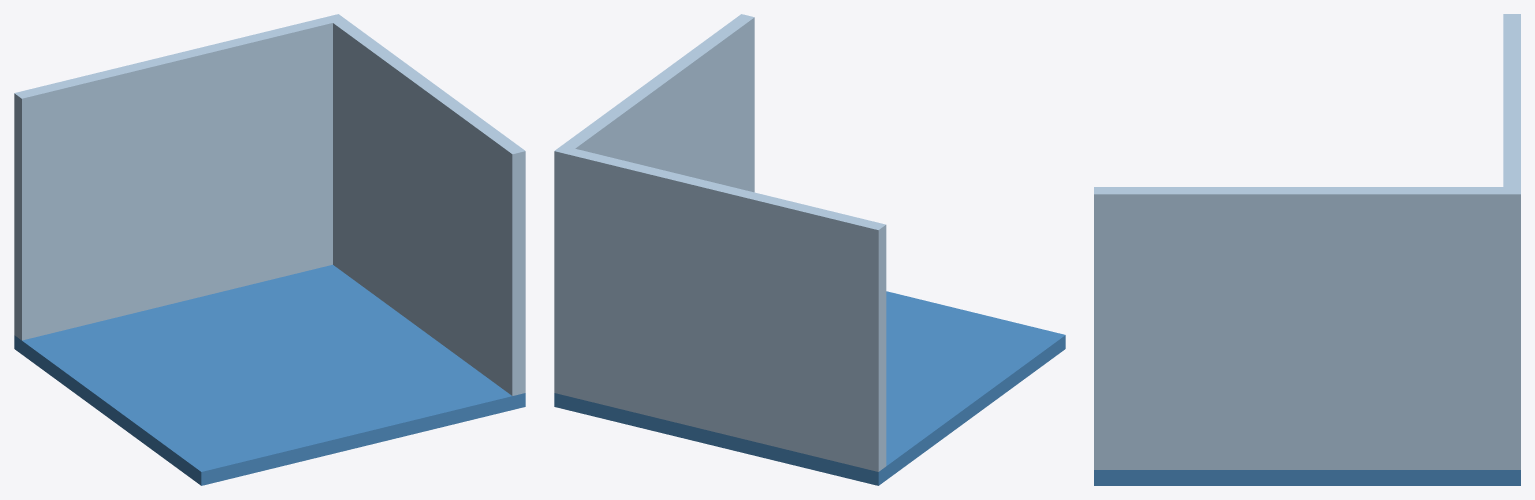
Rendered from room4.glb.
The picture shows the model from 3 angles, left to right: view 1: azimuth 30°, elevation 25°; view 2: azimuth 150°, elevation 25°; view 3: azimuth 270°, elevation 25°; orthographic projection. The views are drawn at different scales.
Visible parts, largest first — view 1: room4; view 2: room4; view 3: room4.
Part boxes in pixels (bbox=[...]): room4: bbox=[14, 14, 525, 485]; room4: bbox=[554, 14, 1065, 485]; room4: bbox=[1094, 14, 1520, 485].
Size of the model in its own units: 3.65 by 2.75 by 3.65.
